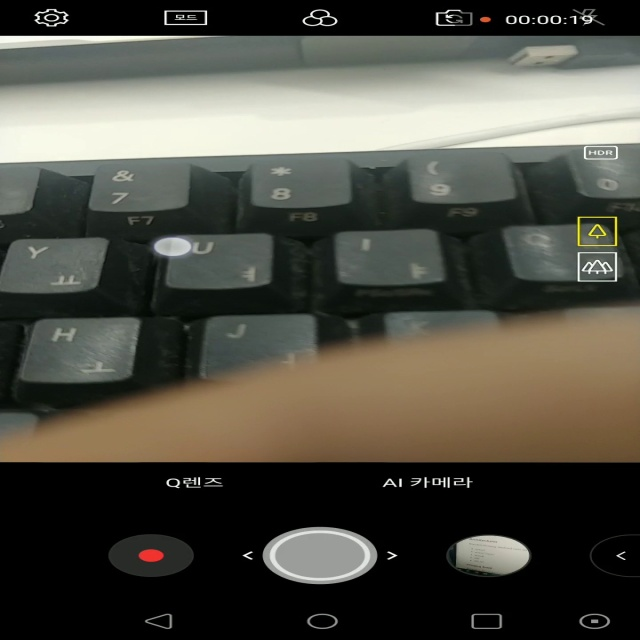Cursor: (151, 236, 195, 258)
